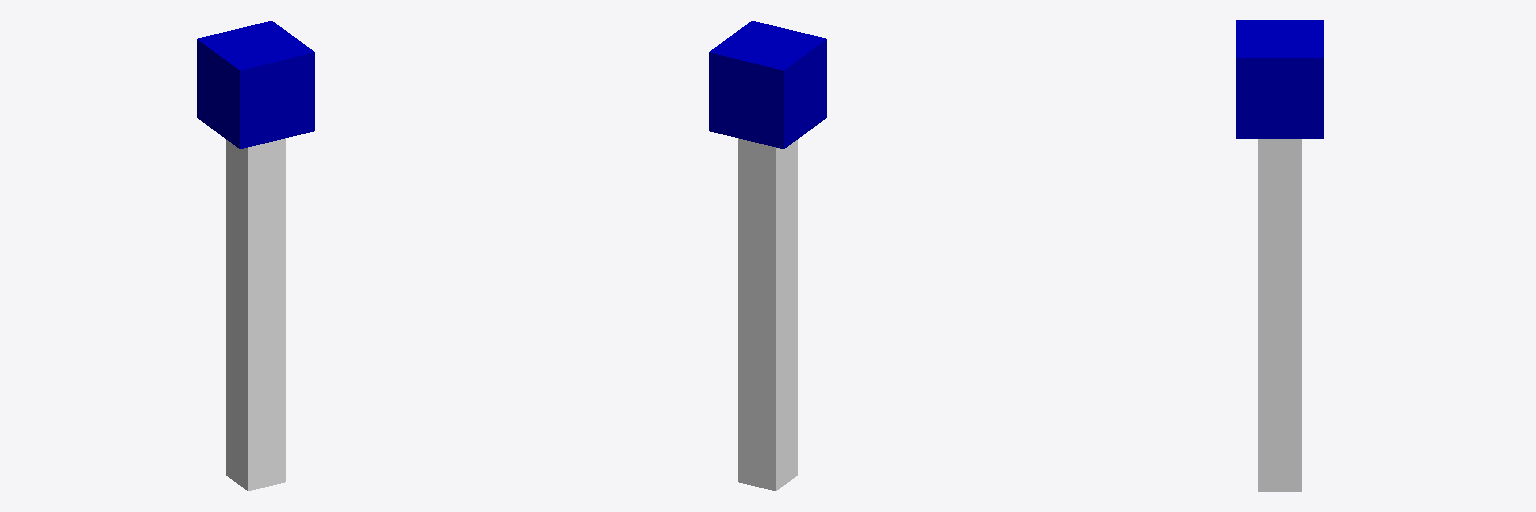
URDF robot description (physics):
<?xml version="1.0"?>
<robot name="physics">

  <link name="base">
    <visual>
      <geometry>
        <box size="0.2 0.2 0.2"/>
      </geometry>
      <origin xyz="0 0 0"/>
      <material name="blue">
        <color rgba="0 0 .8 1"/>
      </material>
    </visual>
    <inertial>
      <mass value="0"/>
      <inertia ixx="1.0" ixy="0.0" ixz="0.0" iyy="1.0" iyz="0.0" izz="1.0"/>
    </inertial>
  </link>

  <link name="pole">
    <visual>
      <geometry>
        <box size="0.1 0.1 1.0"/>	
      </geometry>
      <origin rpy="0 0 0" xyz="0 0 -0.5"/>
      <material name="white">
        <color rgba="1 1 1 1"/>
      </material>
    </visual>
    <inertial>
    <origin xyz="0 0 0.5"/>
      <mass value="0.1"/>
      <inertia ixx="1.0" ixy="0.0" ixz="0.0" iyy="1.0" iyz="0.0" izz="1.0"/>
    </inertial>
  </link>

  <joint name="base_to_pole" type="continuous">
    <axis xyz="0 1 0"/>
    <origin xyz="0.0 0.0 0"/>
    <parent link="base"/>
    <child link="pole"/>
    <dynamics damping=".025"/>
  </joint>

</robot>

--- Render facts (derived) ---
3 views of the same robot in one strip: view 1: azimuth 30°, elevation 25°; view 2: azimuth 150°, elevation 25°; view 3: azimuth 270°, elevation 25° (orthographic).
Model physics with 2 links and 1 joints (1 continuous), rooted at base, posed all joints at 0.
Links seen in each view (by area): view 1: pole, base; view 2: pole, base; view 3: pole, base.
Boxes of the visible links, x1,y1,x2,y2 form: pole: (226,138,285,490); base: (197,21,314,148); pole: (738,138,797,490); base: (709,21,826,148); pole: (1258,139,1301,491); base: (1236,20,1323,138).
Bounding box of the posed robot: 0.2 × 0.2 × 1.1 m (x, y, z).
Geometry: primitives only (box / cylinder / sphere), no mesh files.